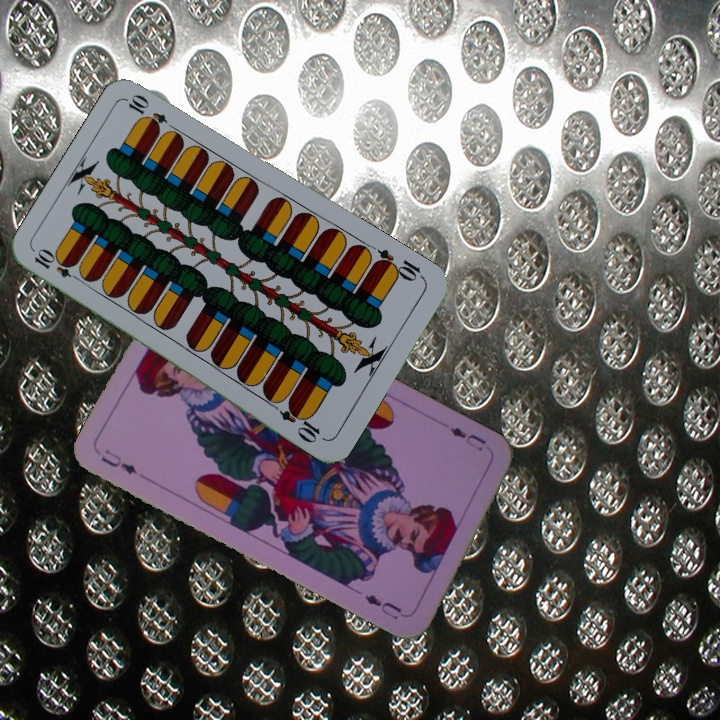E10: (370, 244, 427, 285), (30, 246, 86, 285)
EU: (97, 445, 140, 477), (446, 423, 489, 454)
